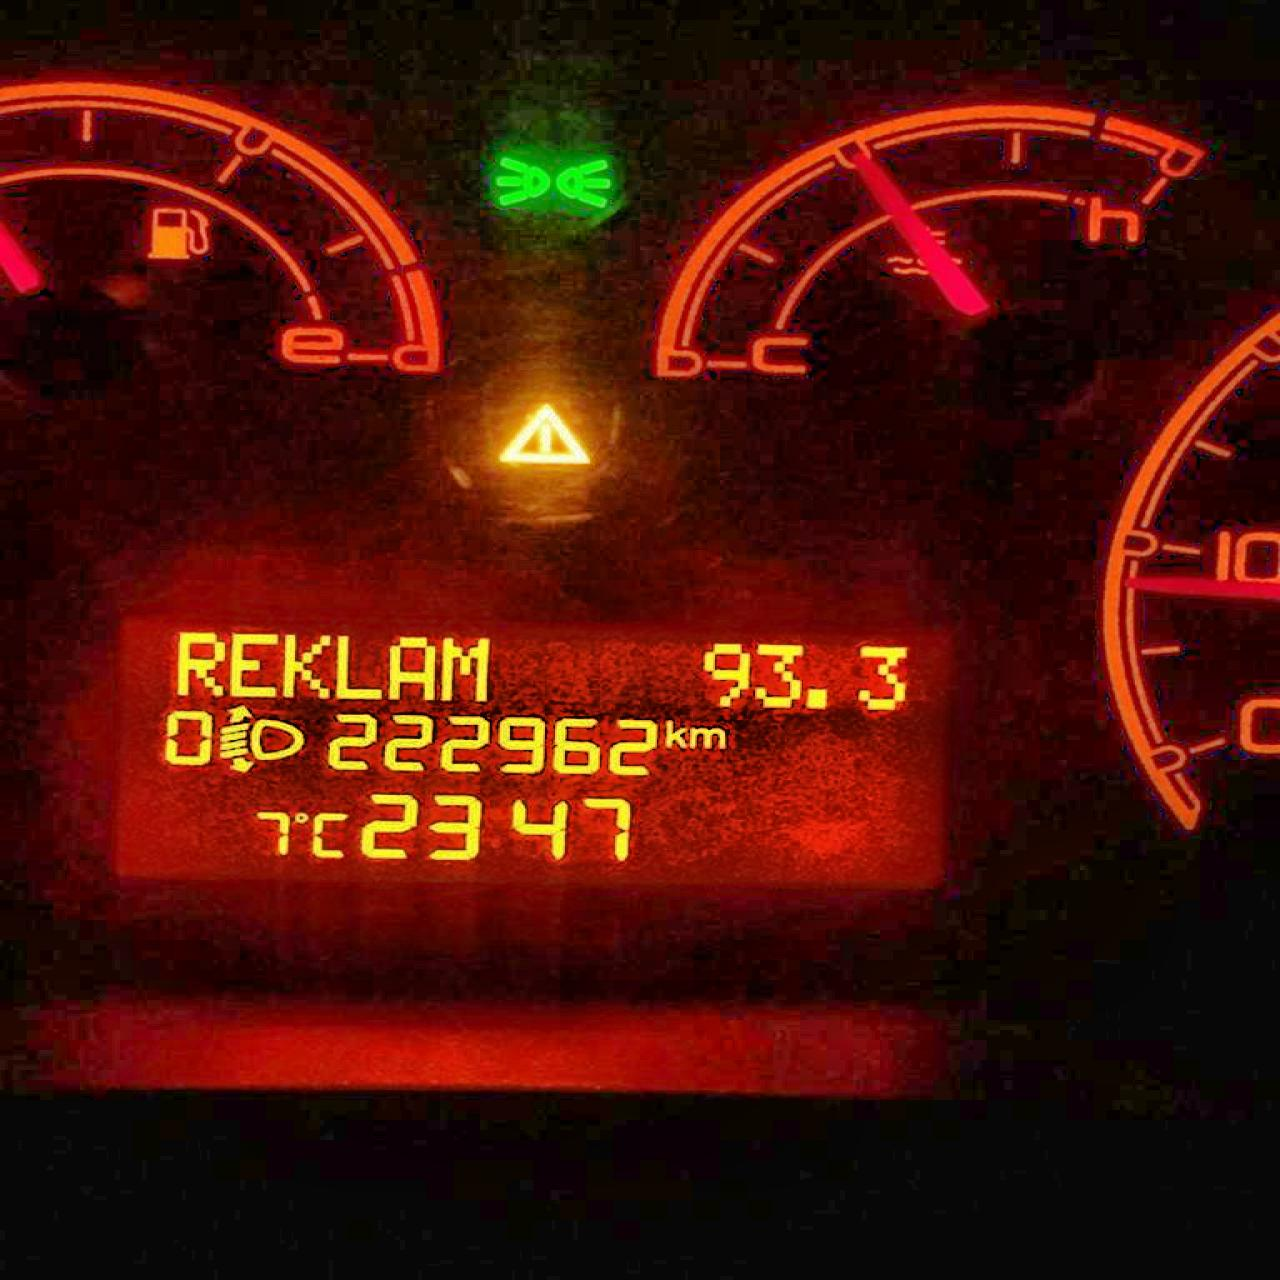-: (803, 686, 829, 709)
0: (162, 709, 216, 765)
2: (356, 791, 418, 860), (325, 713, 379, 770), (382, 713, 434, 772), (438, 715, 490, 772), (606, 717, 656, 776)
3: (425, 791, 482, 860), (857, 645, 906, 710), (754, 644, 802, 708)
4: (509, 798, 568, 860)
6: (550, 716, 600, 774)
7: (581, 797, 632, 862), (253, 809, 288, 856)
9: (701, 641, 751, 708), (497, 716, 545, 774)
X: (436, 635, 491, 703), (278, 632, 332, 699), (332, 633, 383, 699), (175, 629, 225, 696), (229, 632, 279, 697), (387, 635, 435, 700), (308, 811, 348, 860), (687, 727, 726, 749), (663, 717, 687, 749)
odometer: (105, 607, 961, 893)
